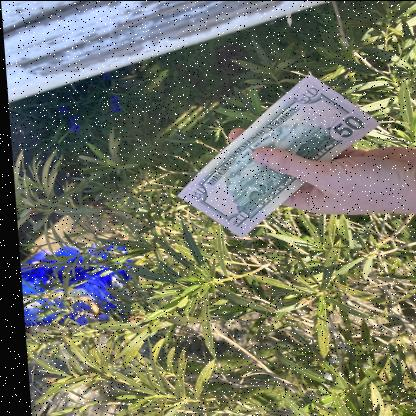fifty-back: (176, 69, 375, 241)
